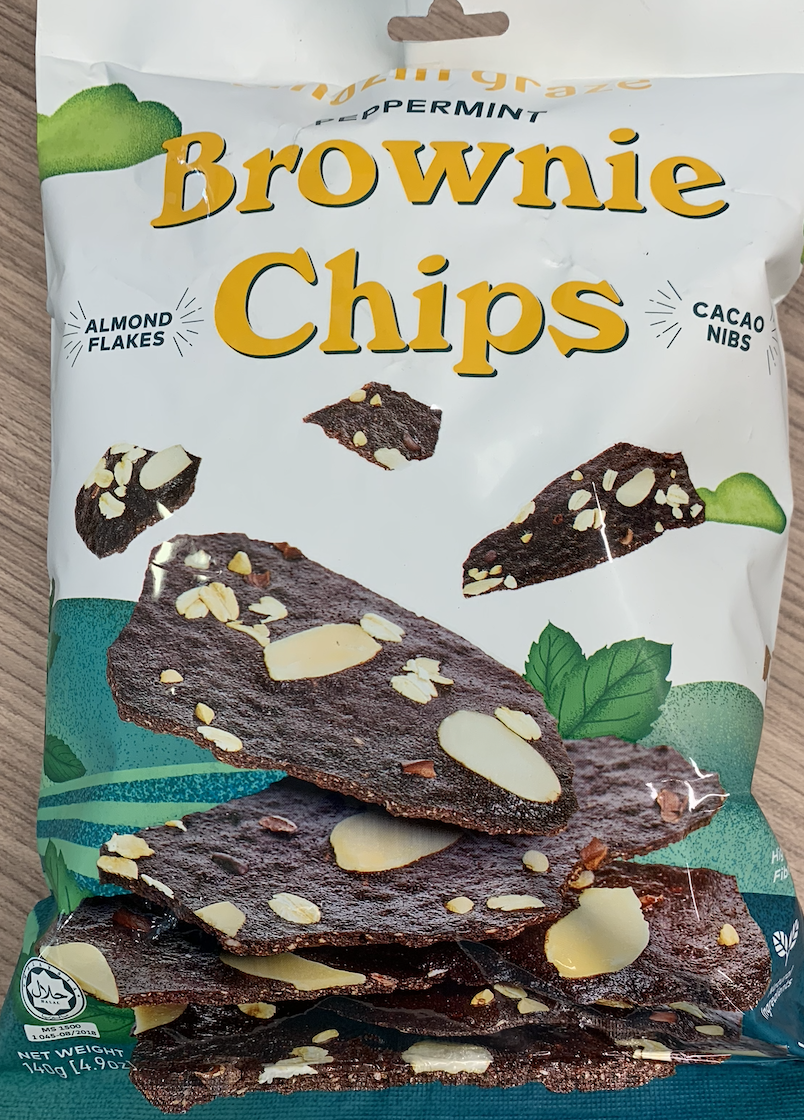cookies_150g: (48, 75, 737, 1066)
